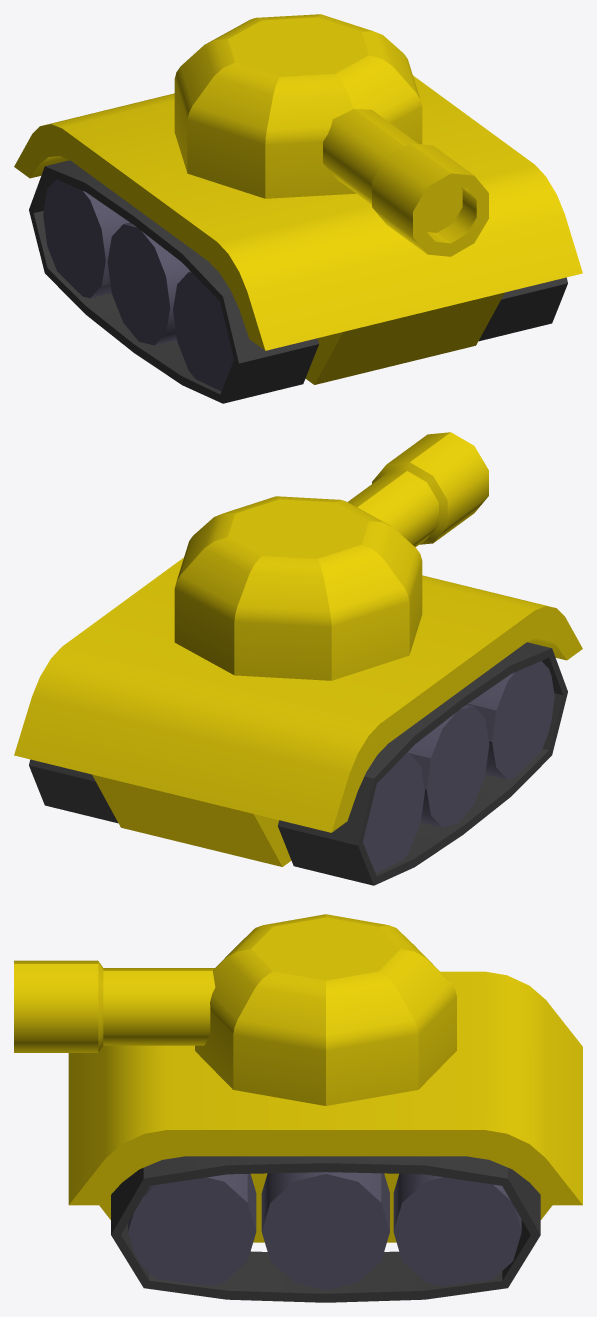
Rendered from ToonTanks.fbx.
3 renders of one model, top to bottom at view 1: azimuth 30°, elevation 25°; view 2: azimuth 150°, elevation 25°; view 3: azimuth 270°, elevation 25°, orthographic. The views are drawn at different scales.
Parts seen in each view (by area): view 1: TankBody, Turret; view 2: TankBody, Turret; view 3: TankBody, Turret.
Part boxes in pixels (box(x1,y1,x2,y2)): TankBody: box(14, 75, 582, 403); Turret: box(174, 14, 488, 256); TankBody: box(14, 557, 582, 885); Turret: box(174, 432, 488, 680); TankBody: box(68, 971, 582, 1302); Turret: box(14, 914, 456, 1105).
Bounding box in the file's own units: 197 × 151 × 288.
